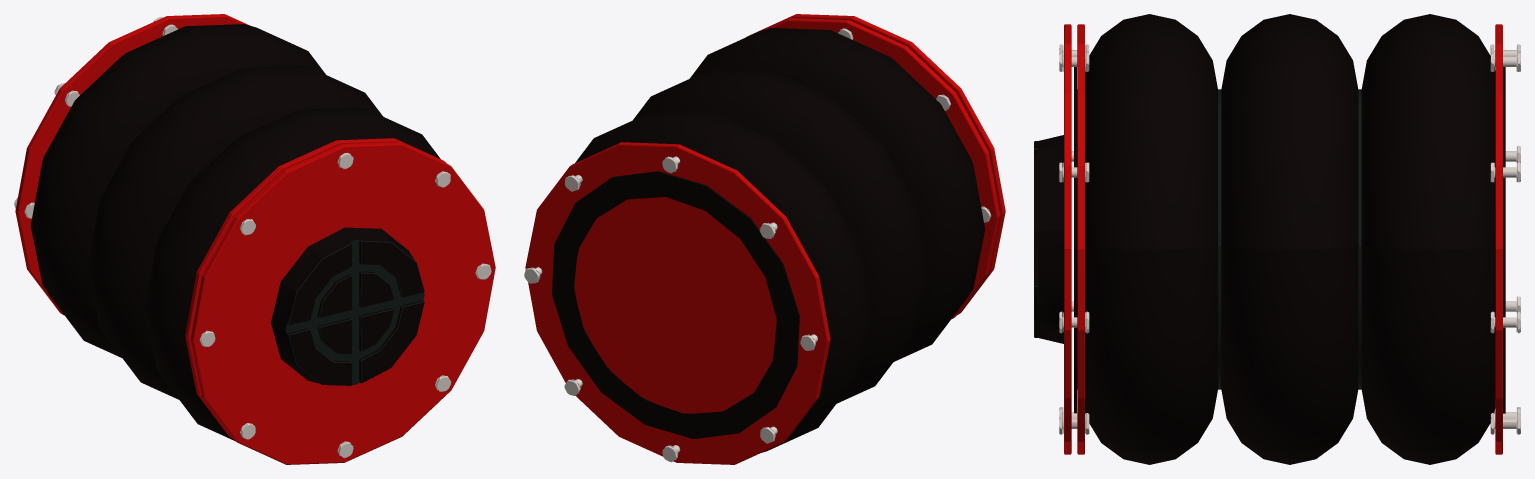
Rendered from piston.dae.
3 views of the same model, side by side, from view 1: azimuth 30°, elevation 25°; view 2: azimuth 150°, elevation 25°; view 3: azimuth 270°, elevation 25° (orthographic). The views are drawn at different scales.
Parts seen in each view (by area): view 1: polySurface449, polySurface545, polySurface457, polySurface557; view 2: polySurface449, polySurface545, polySurface557; view 3: polySurface449, polySurface545, polySurface457, polySurface557.
Part boxes in pixels (bbox=[...]): polySurface449: bbox=[30, 24, 440, 440]; polySurface545: bbox=[15, 14, 495, 464]; polySurface457: bbox=[271, 227, 424, 385]; polySurface557: bbox=[14, 16, 491, 458]; polySurface449: bbox=[552, 28, 985, 452]; polySurface545: bbox=[525, 14, 1005, 464]; polySurface557: bbox=[524, 28, 991, 462]; polySurface449: bbox=[1074, 14, 1505, 464]; polySurface545: bbox=[1064, 24, 1502, 454]; polySurface457: bbox=[1034, 135, 1063, 343]; polySurface557: bbox=[1059, 44, 1520, 434].
Size of the model in its own units: 1.05 by 1.13 by 1.05.
